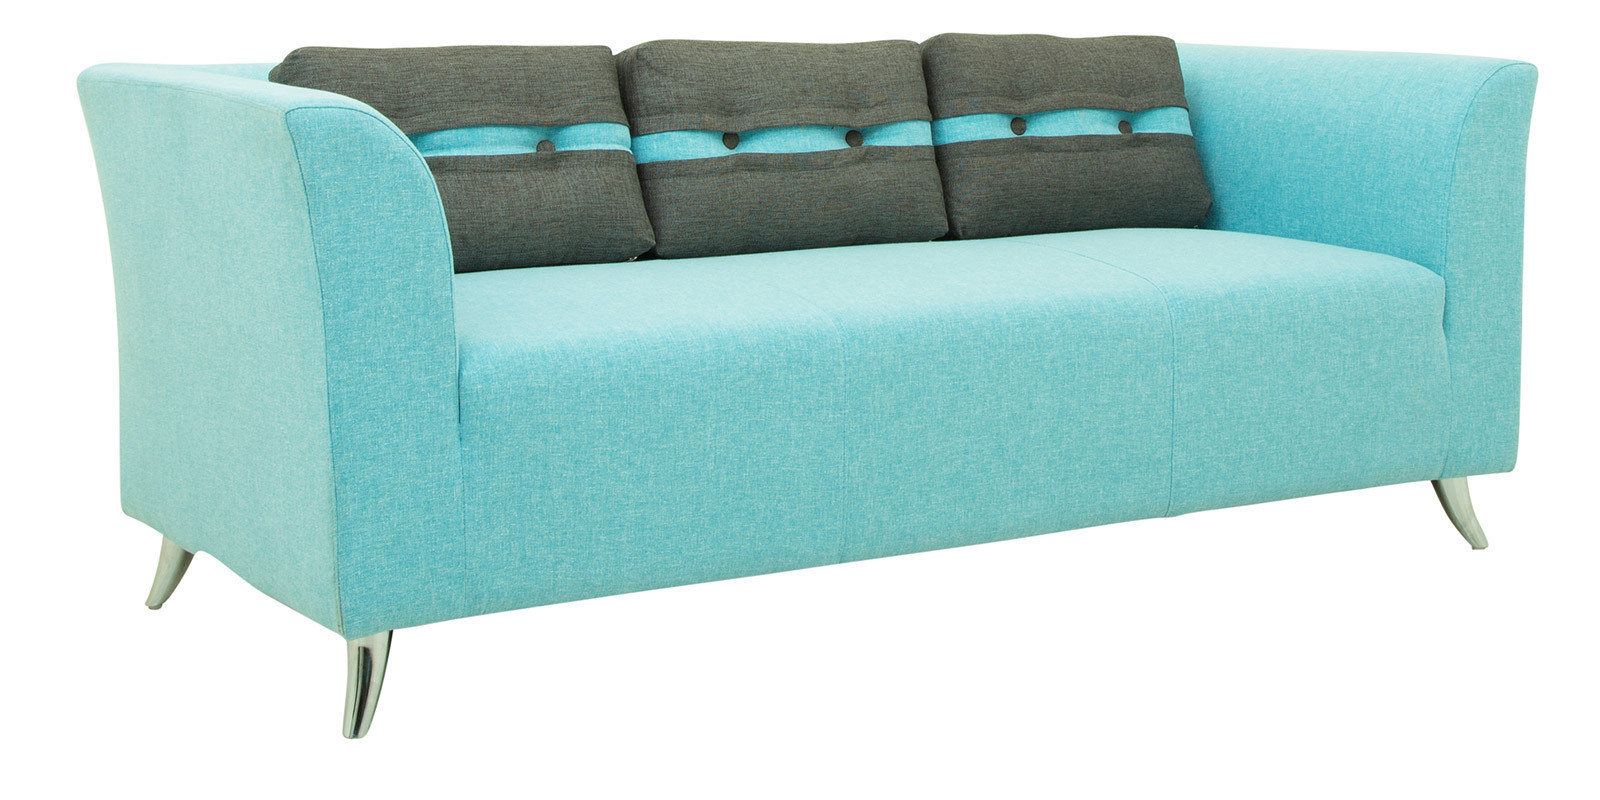Iowa Three Seater Sofa in Celeste Blue Colour by Furnitech: (56, 14, 1597, 742)
